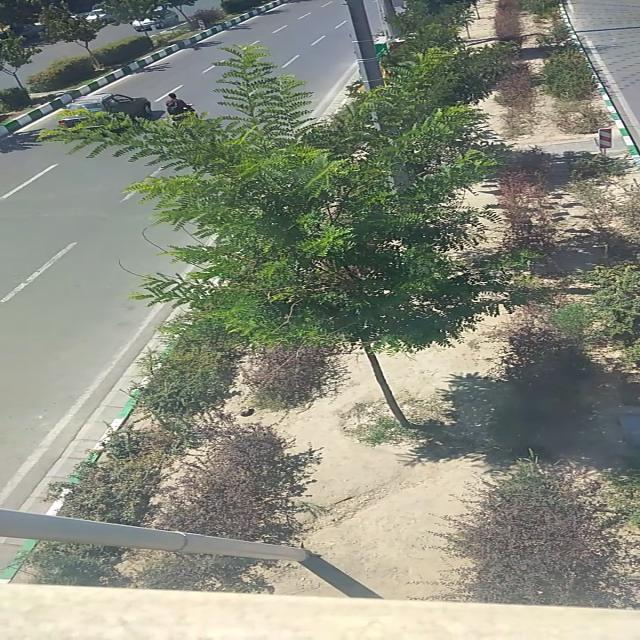car: (56, 90, 152, 138), (132, 7, 174, 31)
motor: (164, 92, 194, 120)
